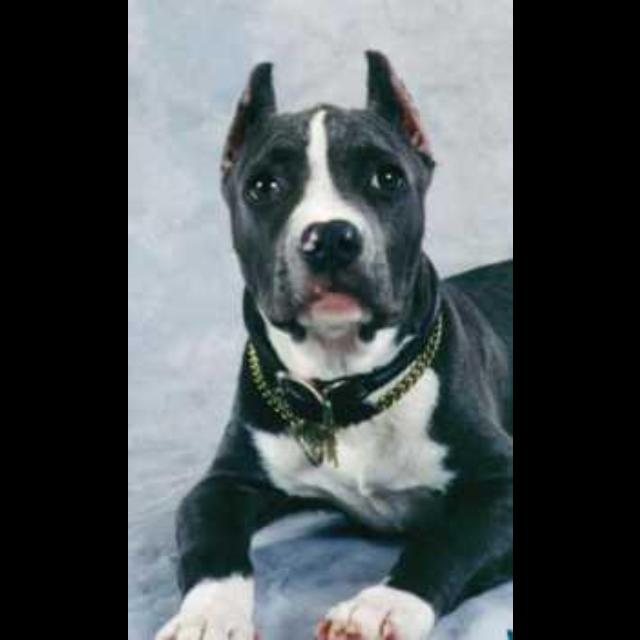staffford: (152, 49, 512, 639)
